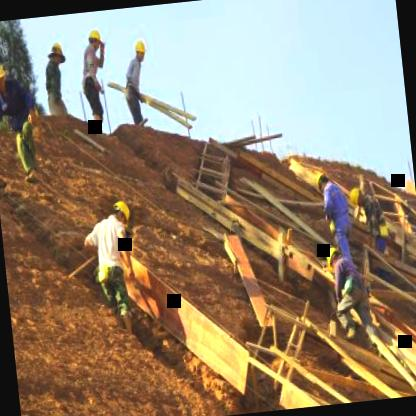helmet: (107, 195, 132, 230), (44, 36, 66, 69), (345, 180, 368, 209), (323, 244, 346, 272), (130, 34, 150, 66), (310, 168, 332, 197), (86, 22, 107, 50), (0, 56, 8, 96)
